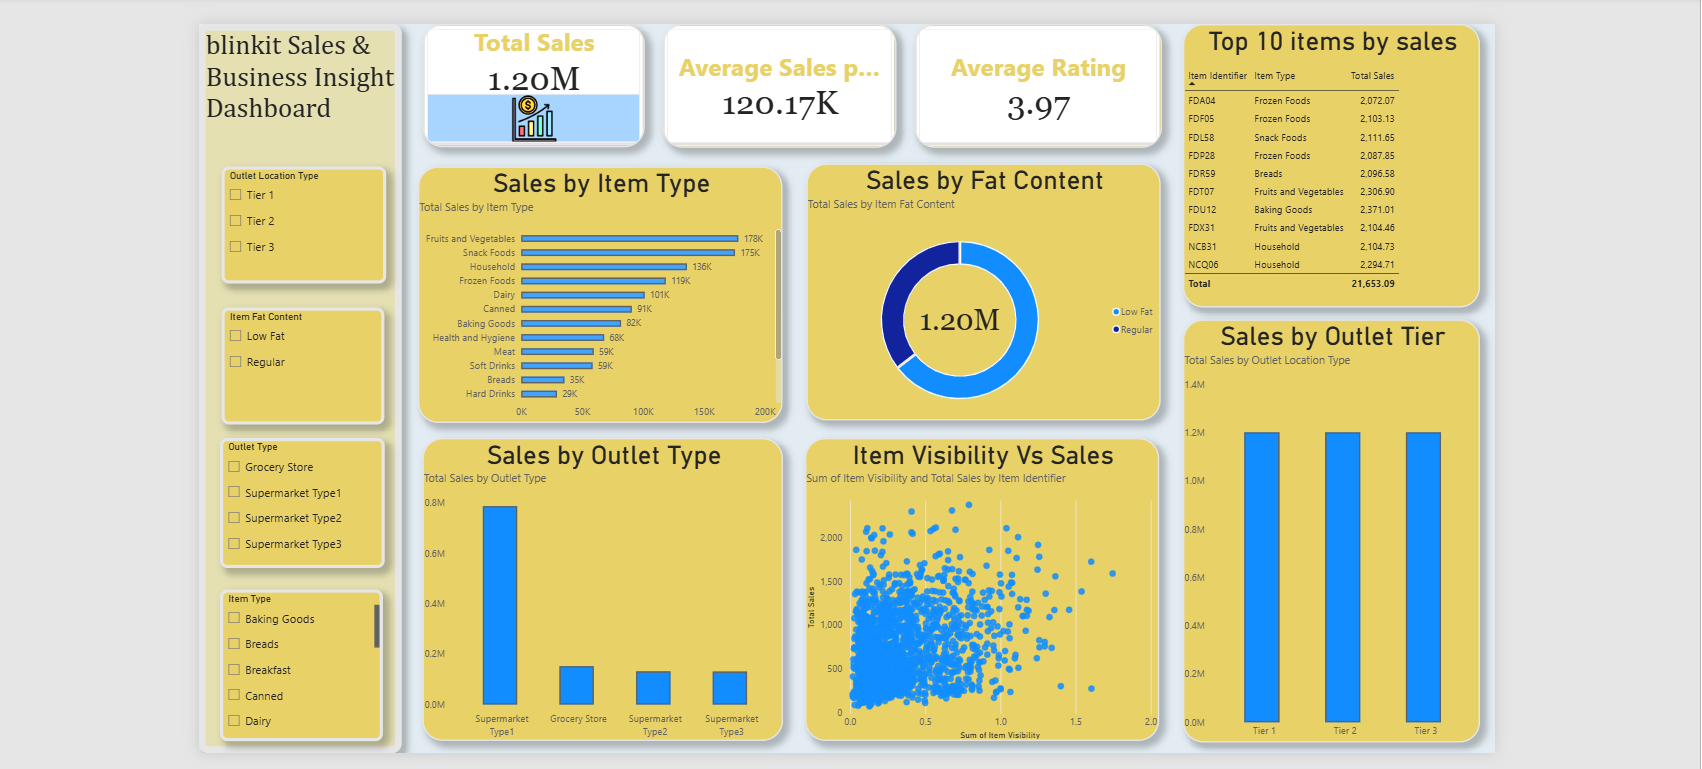

The page's visual inventory and layout, read from the dashboard file:
{"tool":"powerbi","page":{"name":"Dashboard","canvas":[1920,1080],"ordinal":0},"visuals":[{"type":"cardVisual","fields":{"Data":["BlinkIT Grocery Data.Total Sales"]},"box":[330,0,329.3,182.9],"z":0},{"type":"cardVisual","fields":{"Data":["BlinkIT Grocery Data.Average Rating"]},"box":[1060,0,366.7,183.3],"z":1000},{"type":"cardVisual","fields":{"Data":["BlinkIT Grocery Data.Average Sales par Outlet"]},"box":[686.7,0,346.7,183.3],"z":2000},{"type":"clusteredBarChart","title":" Sales by Item Type","fields":{"Category":["Items.Item Type"],"Y":["BlinkIT Grocery Data.Total Sales"]},"box":[323.3,210,540,380],"z":3000},{"type":"donutChart","title":" Sales by Fat Content","fields":{"Category":["Items Content.Item Fat Content"],"Y":["BlinkIT Grocery Data.Total Sales"]},"box":[900,206.7,524.4,380.5],"z":4000},{"type":"clusteredColumnChart","title":"Sales by Outlet Type","fields":{"Category":["Outlet Info.Outlet Type"],"Y":["BlinkIT Grocery Data.Total Sales"]},"box":[330,613.3,534.1,448.8],"z":5000},{"type":"clusteredColumnChart","title":" Sales by Outlet Tier","fields":{"Category":["Outlet Location.Outlet Location Type"],"Y":["BlinkIT Grocery Data.Total Sales"]},"box":[1456.7,436.7,440,626.7],"z":6000},{"type":"textbox","title":"blinkit Sales & Business Insights Dashboard","box":[0,0,300,1080],"z":7000},{"type":"tableEx","title":"Top 10 items by sales","fields":{"Values":["BlinkIT Grocery Data.Item Identifier","Items.Item Type","BlinkIT Grocery Data.Total Sales"]},"box":[1456.7,0,440,420],"z":8000},{"type":"scatterChart","title":" Item Visibility  Vs Sales","fields":{"Category":["BlinkIT Grocery Data.Item Identifier"],"X":["Sum(BlinkIT Grocery Data.Item Visibility)"],"Y":["BlinkIT Grocery Data.Total Sales"]},"box":[896.7,613.3,524.4,448.8],"z":9000},{"type":"slicer","fields":{"Values":["Outlet Info.Outlet Type"]},"box":[30,613.3,243.9,192.7],"z":10000},{"type":"slicer","fields":{"Values":["Outlet Location.Outlet Location Type"]},"box":[33.3,210,243.9,173.2],"z":11000},{"type":"slicer","fields":{"Values":["Items.Item Type"]},"box":[30,836.7,241.5,224.4],"z":12000},{"type":"slicer","fields":{"Values":["Items Content.Item Fat Content"]},"box":[33.3,420,241,173],"z":13000}]}

Visuals, with their boxes in screenshot pixels (x1, y1, x2, y2):
cardVisual - BlinkIT Grocery Data.Total Sales: x1=422, y1=22, x2=645, y2=146
cardVisual - BlinkIT Grocery Data.Average Rating: x1=915, y1=22, x2=1163, y2=146
cardVisual - BlinkIT Grocery Data.Average Sales par Outlet: x1=663, y1=22, x2=897, y2=146
" Sales by Item Type" clusteredBarChart: x1=418, y1=164, x2=782, y2=421
" Sales by Fat Content" donutChart: x1=807, y1=162, x2=1161, y2=419
"Sales by Outlet Type" clusteredColumnChart: x1=422, y1=436, x2=783, y2=739
" Sales by Outlet Tier" clusteredColumnChart: x1=1183, y1=317, x2=1480, y2=740
"blinkit Sales & Business Insights Dashboard" textbox: x1=199, y1=22, x2=402, y2=752
"Top 10 items by sales" tableEx: x1=1183, y1=22, x2=1480, y2=306
" Item Visibility  Vs Sales" scatterChart: x1=805, y1=436, x2=1159, y2=739
slicer - Outlet Info.Outlet Type: x1=220, y1=436, x2=384, y2=566
slicer - Outlet Location.Outlet Location Type: x1=222, y1=164, x2=387, y2=281
slicer - Items.Item Type: x1=220, y1=587, x2=383, y2=739
slicer - Items Content.Item Fat Content: x1=222, y1=306, x2=385, y2=423
